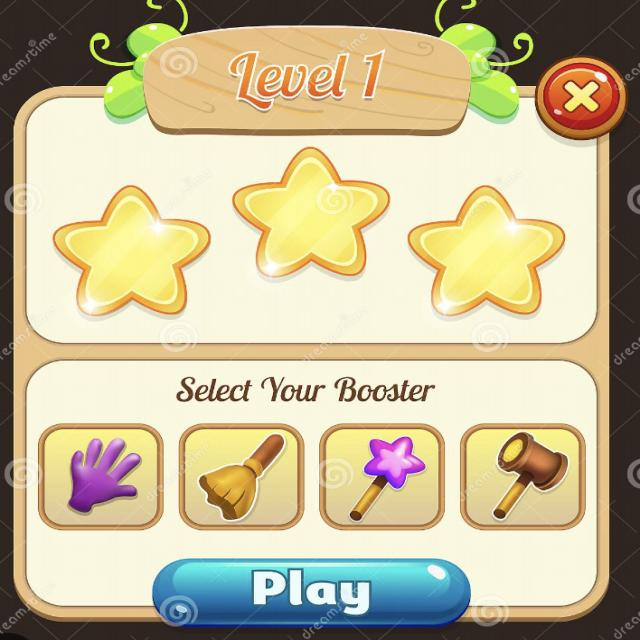Start-button: (149, 554, 478, 633)
